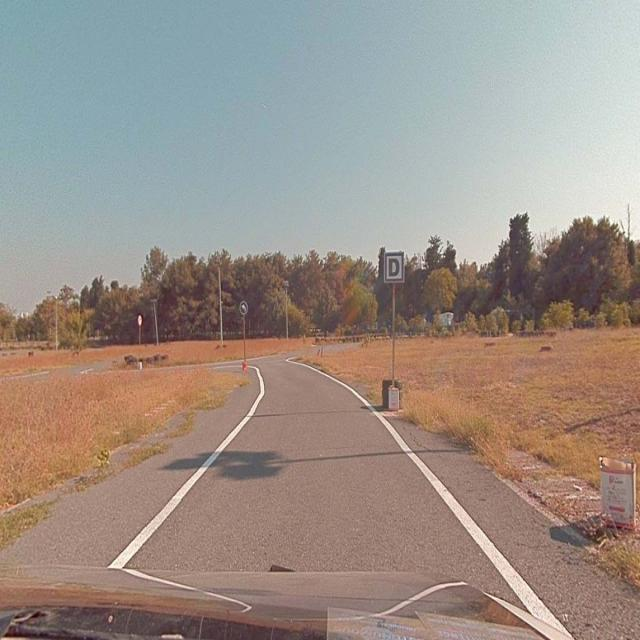durak: (386, 252, 405, 282)
sol: (240, 301, 248, 313)
